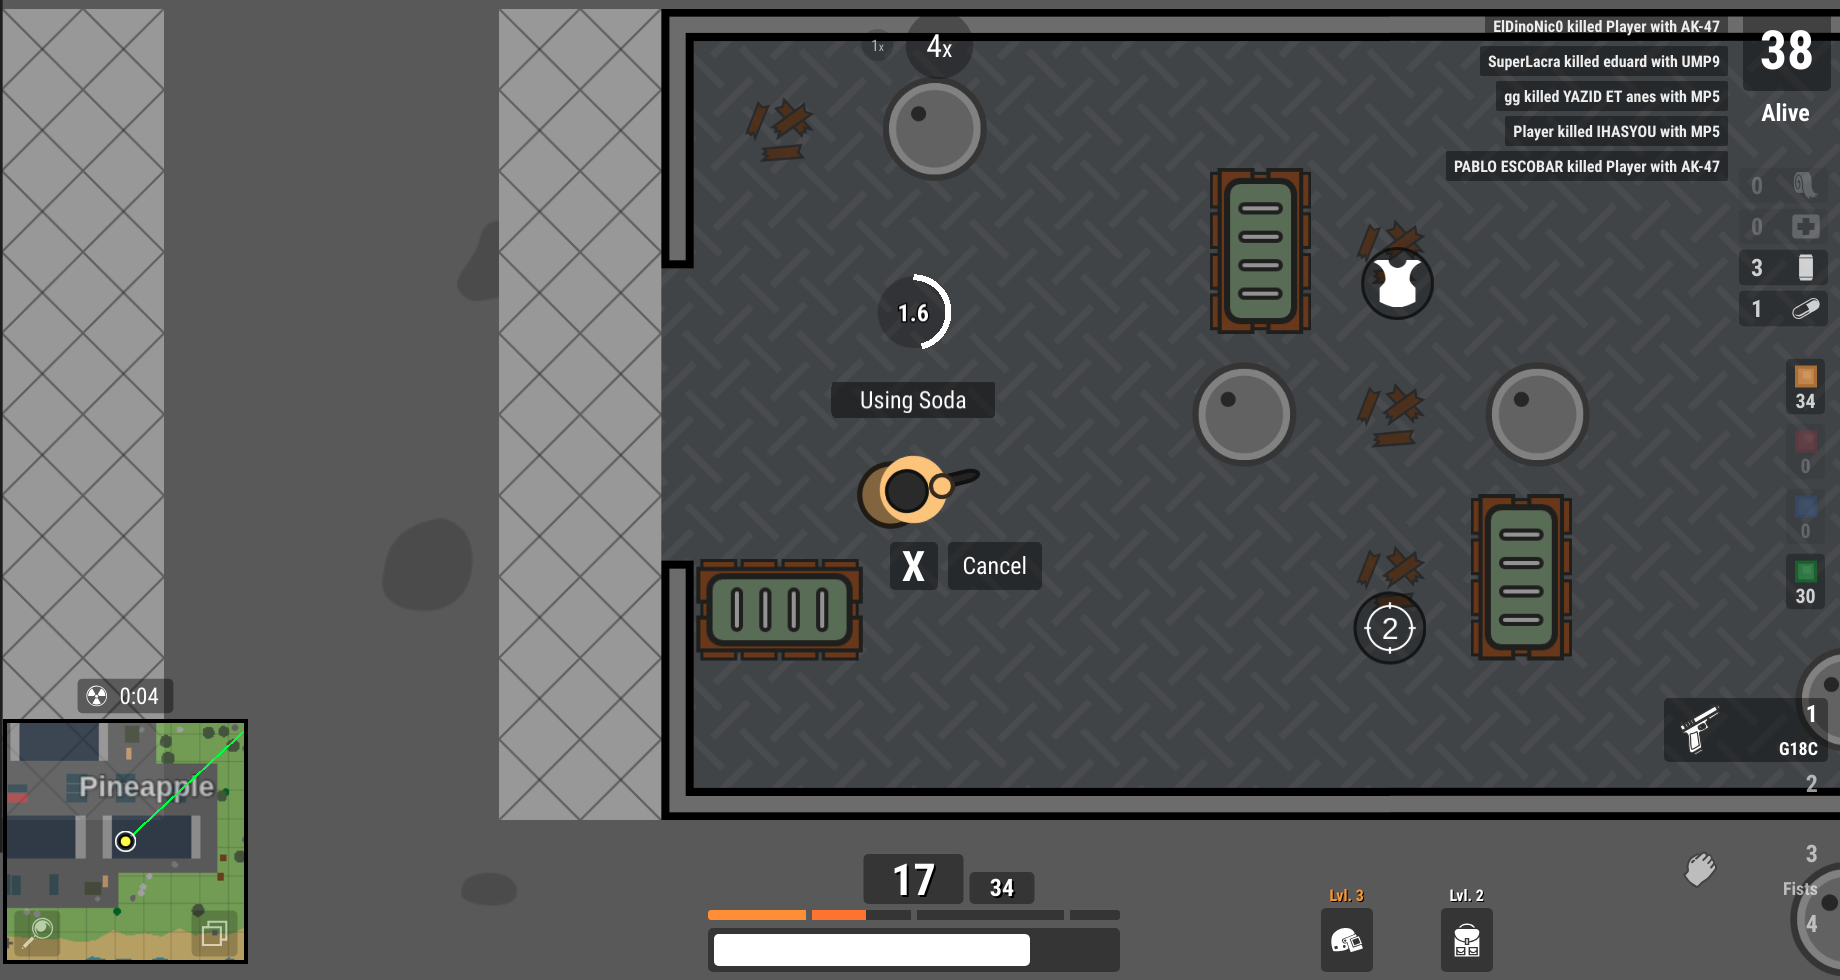Player: (853, 439, 981, 535)
